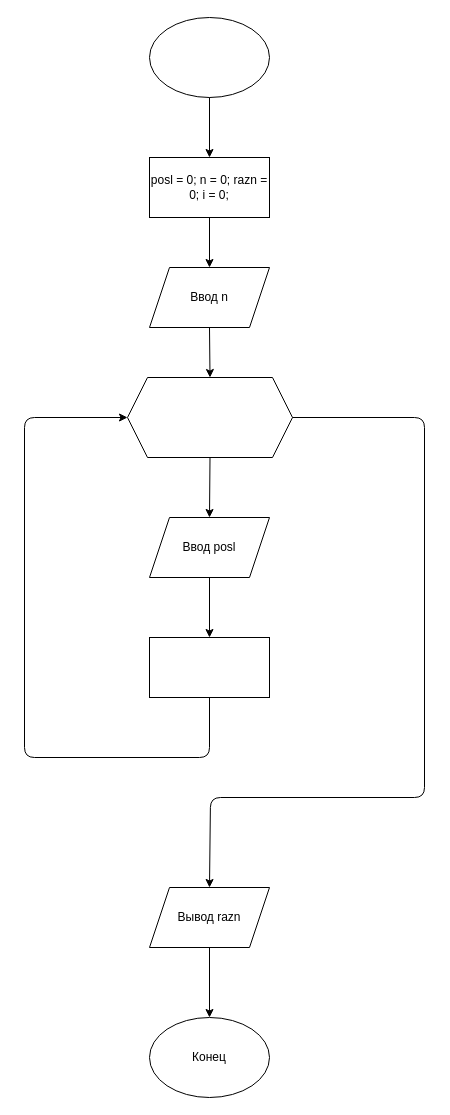
The diagram is 450 pixels wide and 1115 high, and some of its shapes have lost their labels. The shapes that lost their labels are listed below. From the top down, each one's box as (x1, y1, x2, y2) in pixels, then its label:
(148, 16, 270, 98): Начало
(126, 376, 292, 458): i от 0 до n c шагом 1
(148, 636, 270, 698): razn = razn - posl
